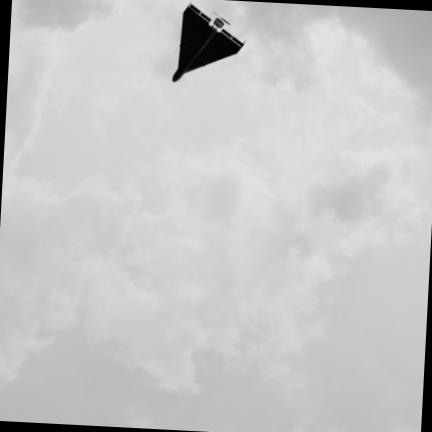Shahed: (172, 4, 243, 82)
